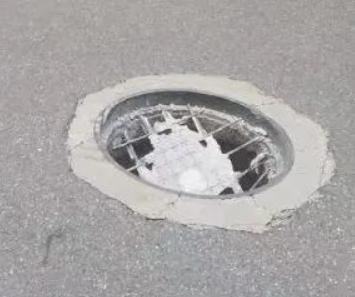wellcover: (85, 75, 300, 211)
